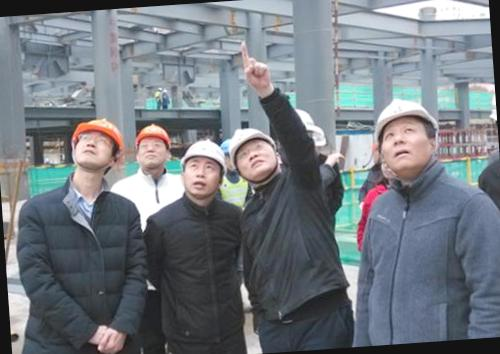no_helmet: (366, 100, 447, 182)
